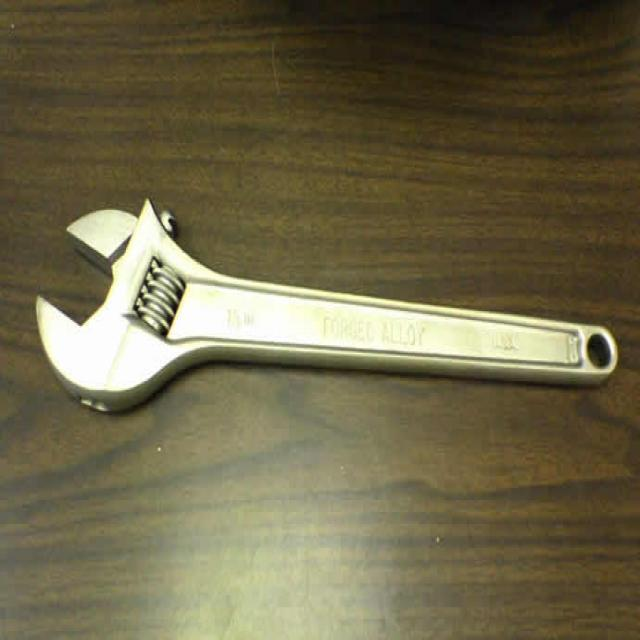wrench: (32, 186, 622, 432)
